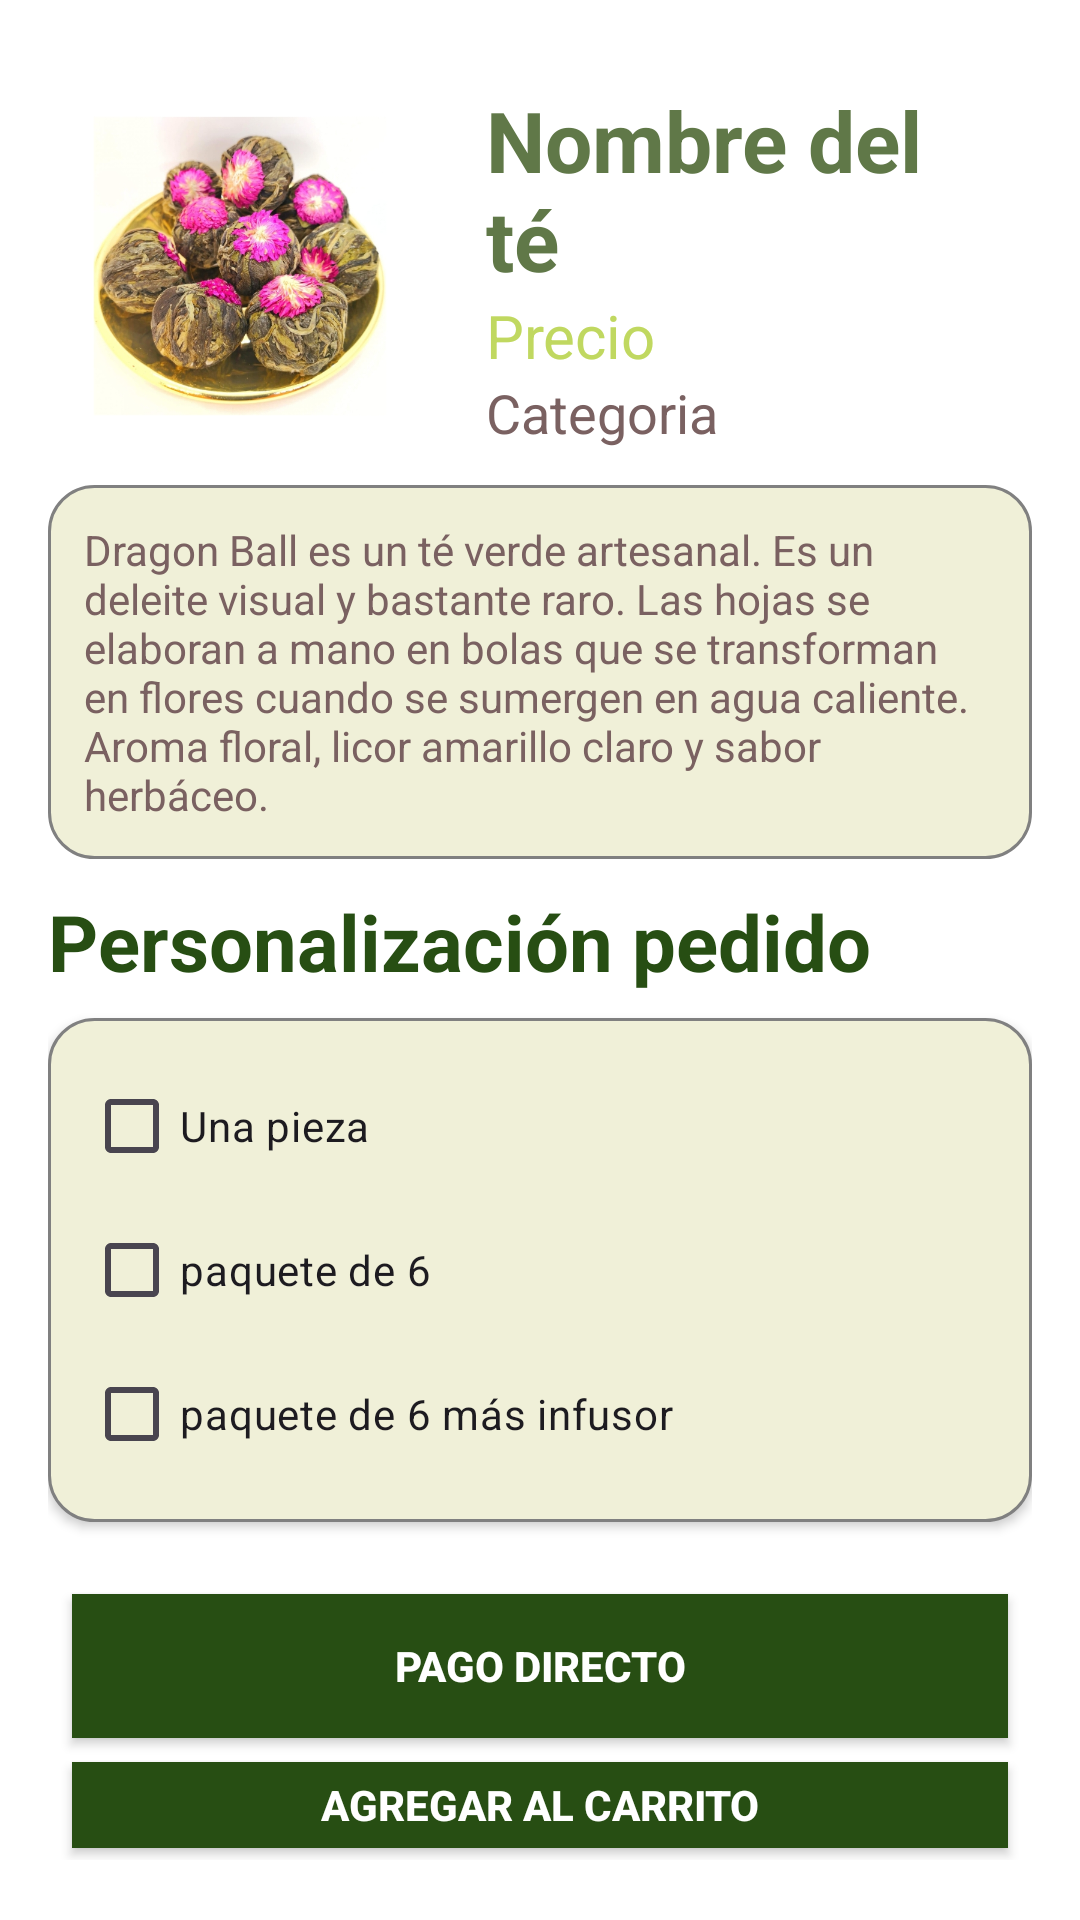

Icon bounding boxes for this 1080x1920 phone screenshot, format (x1, y1, x2, y2):
jazmin: (94, 117, 385, 414)
